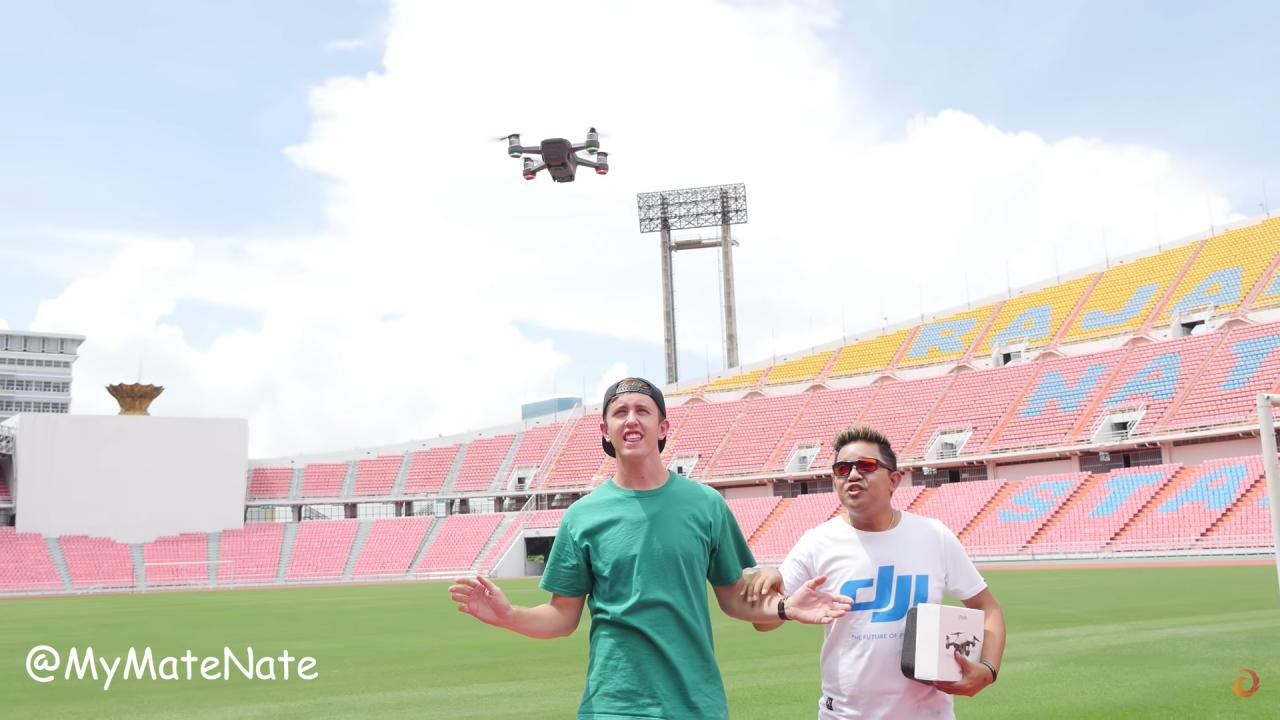Drone: (488, 119, 622, 192)
